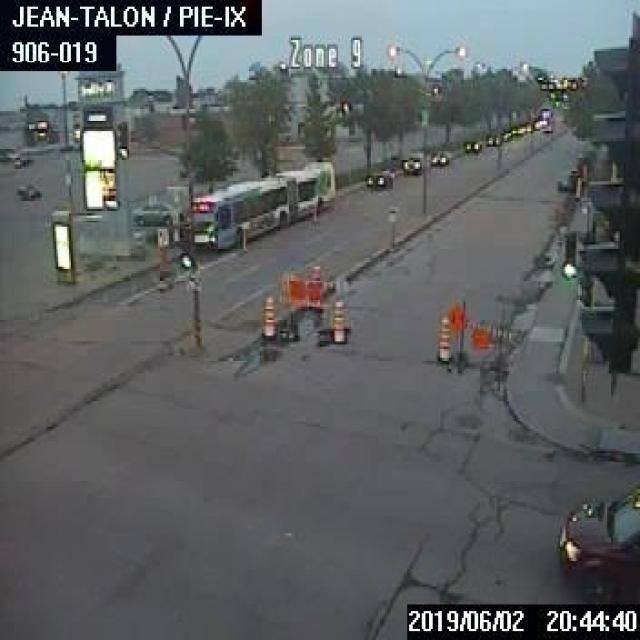bus: (180, 160, 335, 251)
construction: (268, 263, 348, 343), (449, 295, 511, 369), (434, 312, 451, 361), (330, 298, 346, 343), (260, 294, 274, 338)
vehicle: (553, 491, 638, 600), (129, 199, 183, 223), (363, 168, 393, 190), (402, 152, 424, 172), (14, 182, 40, 198), (428, 148, 449, 165), (462, 136, 480, 152), (556, 172, 574, 188), (485, 131, 499, 144), (510, 124, 522, 134), (498, 130, 507, 139)
